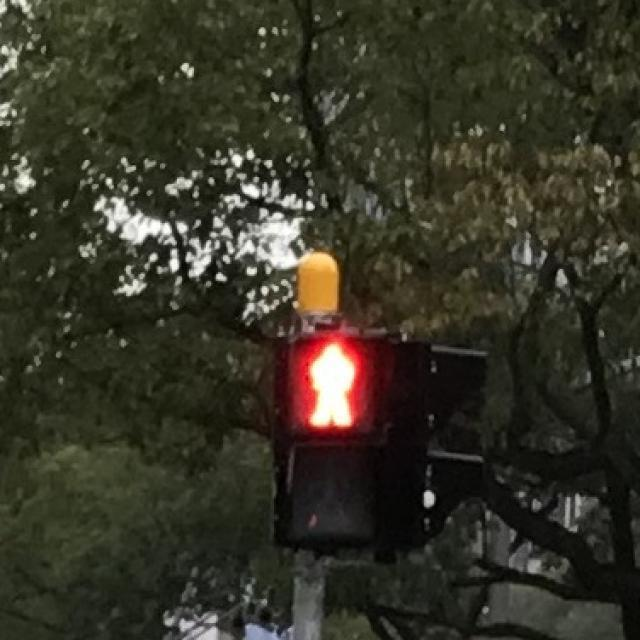red-crossing: (293, 337, 377, 434)
